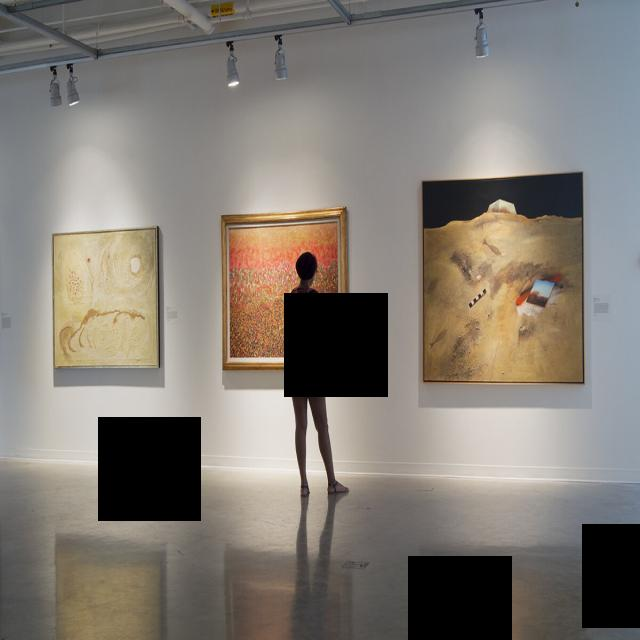Tablo: (422, 173, 583, 383), (229, 221, 339, 358), (52, 227, 158, 366)
